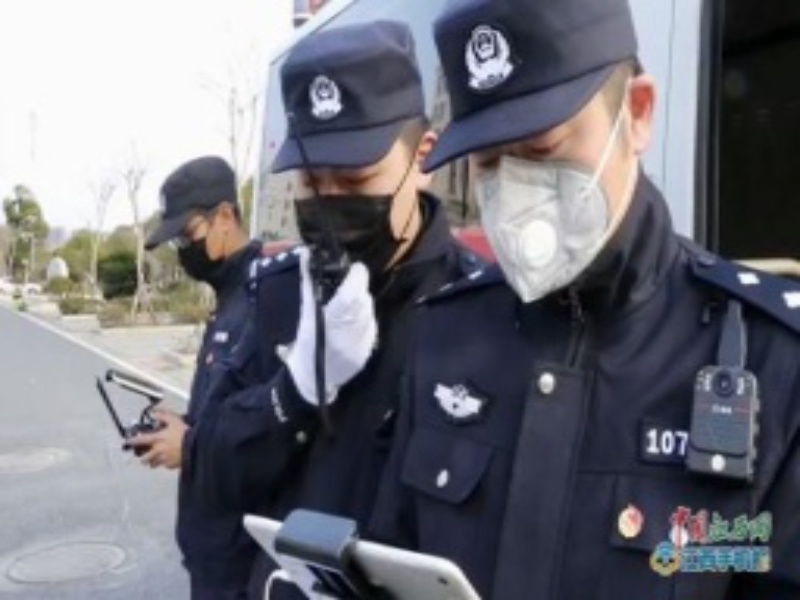ManaoArotava: (430, 16, 674, 310), (265, 52, 430, 289), (144, 155, 254, 295)
